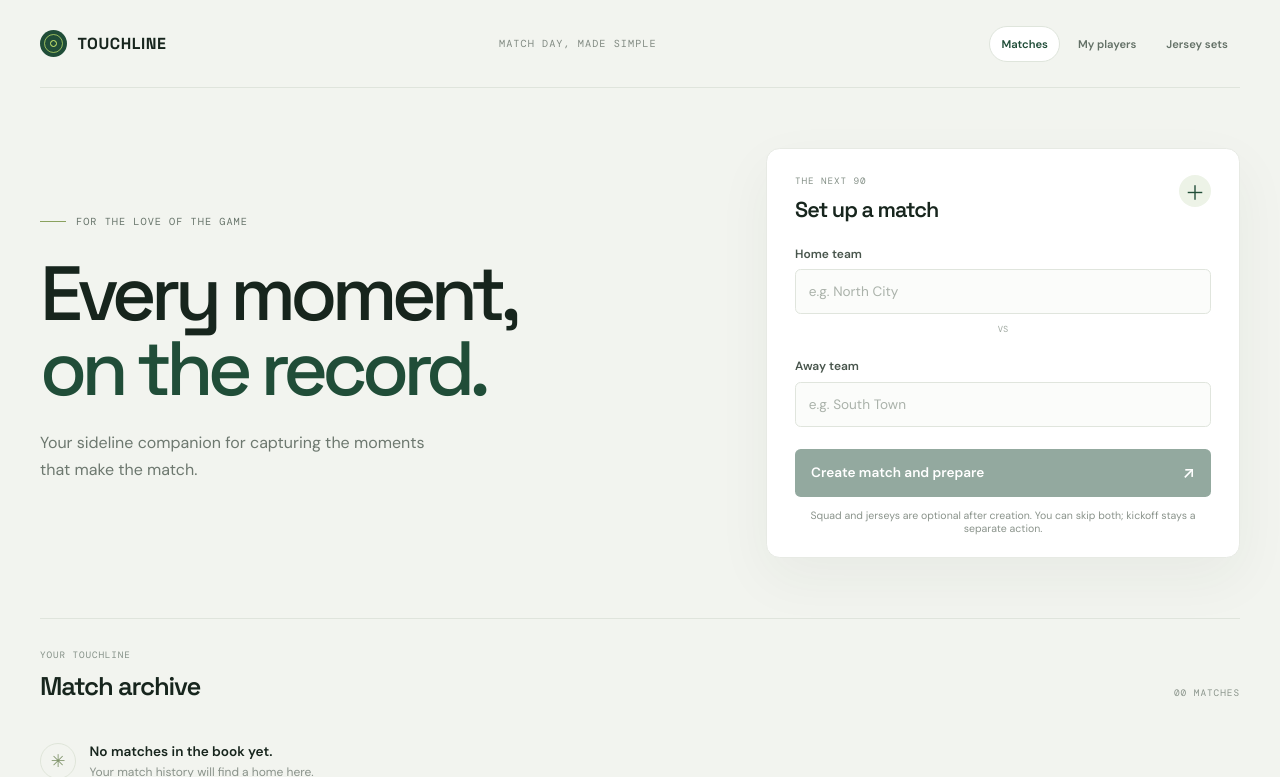
Test: App › navigates to My players and uses the app-scoped persistent player store
Click the button "My players" at (1107, 44), box [1066,26,1148,62]
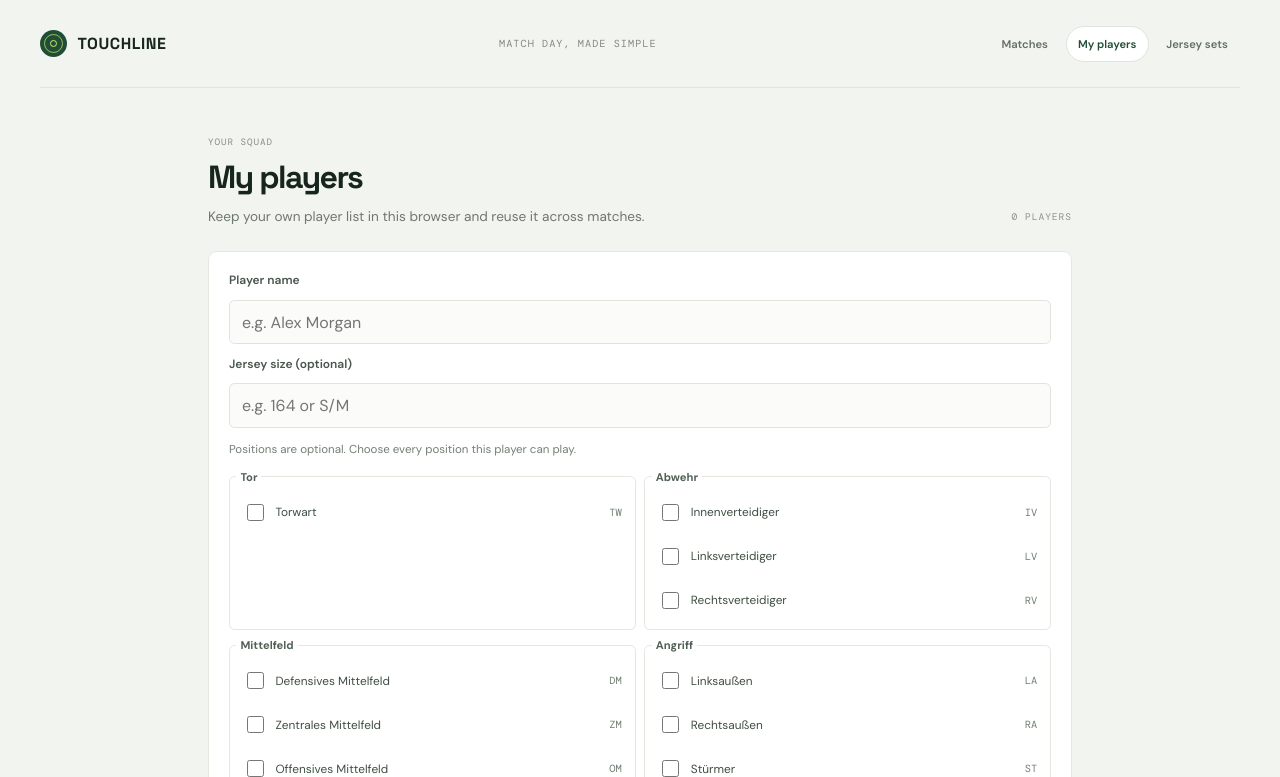
expect the field with id "create-player-name" is shown: met
Type "Alex Morgan" into the field with id "create-player-name" at (640, 322), box [229,300,1051,344]
(page scrolled)
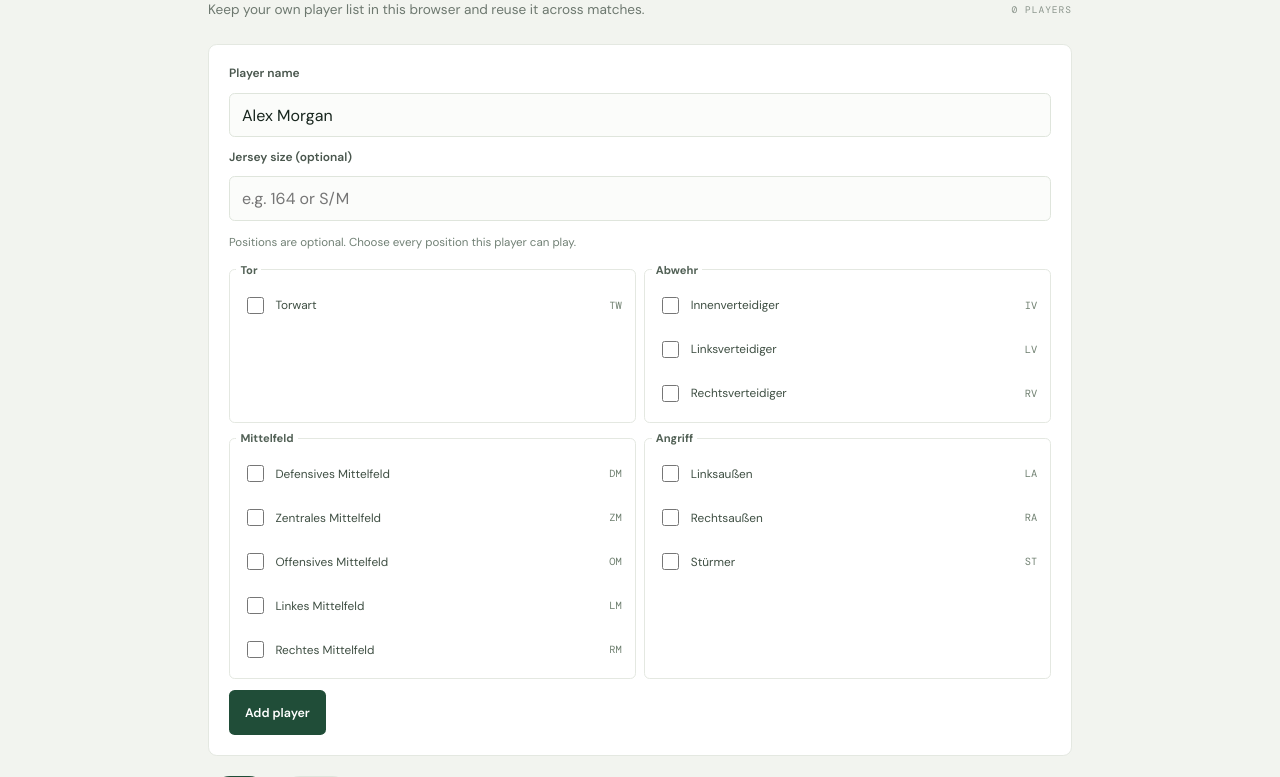
Submit the form
(page scrolled)
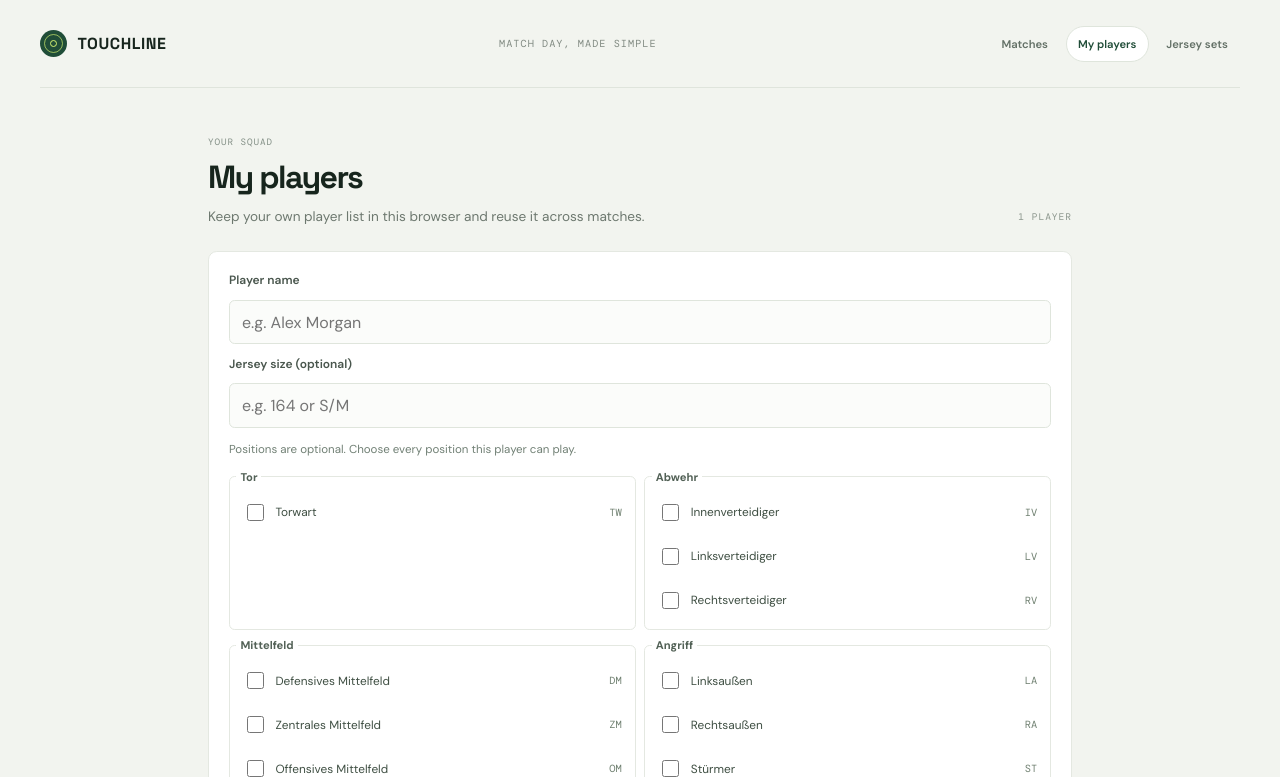
Click the button "Matches" at (1025, 44), box [989,26,1060,62]
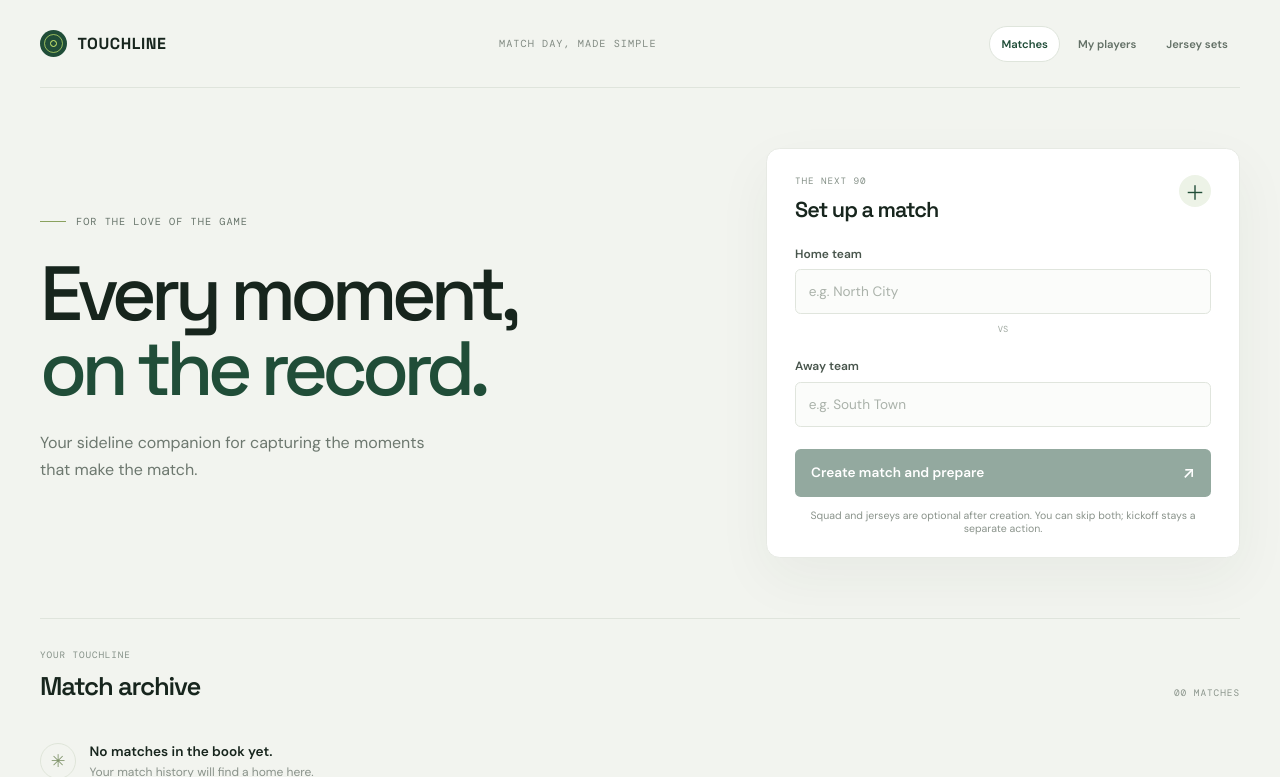
expect the heading with id "archive-heading" reads "Match archive": met, box [40,670,200,702]
Click the button "My players" at (1107, 44), box [1066,26,1148,62]
(page scrolled)
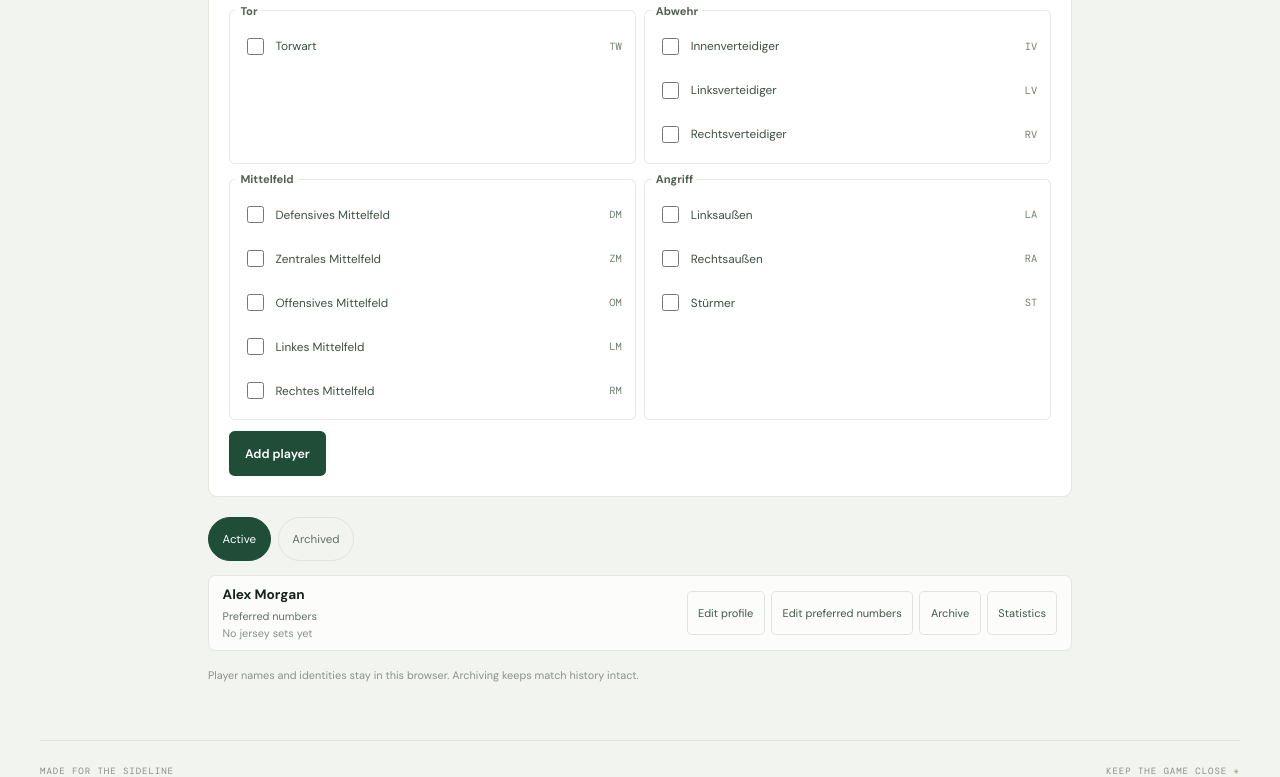
expect the list item with test id "player-card" shows "Alex Morgan": met, box [223,586,305,603]
